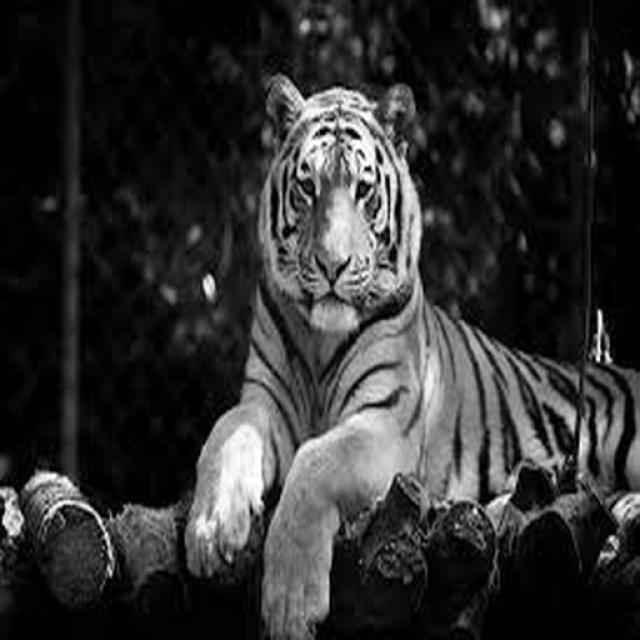Tiger: (181, 71, 639, 639)
